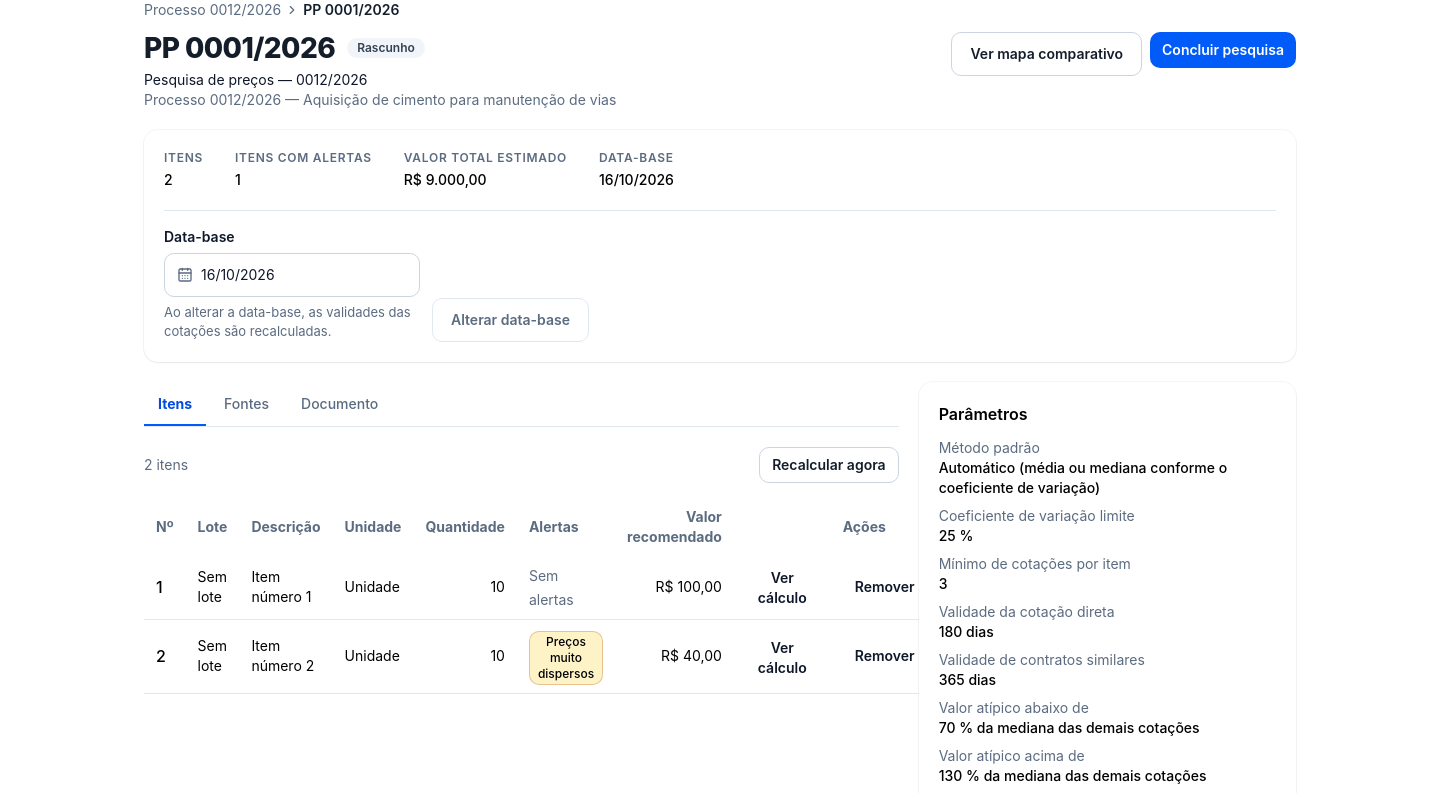
Test case: Concluir pesquisa (SCR-009 · US-032) › 412: fecha o diálogo e pede para recarregar
What coordinates should you click on to do the following:
click the button "Concluir pesquisa"
I would click on:
 (1223, 50)
Its box is [1150,32,1296,68].
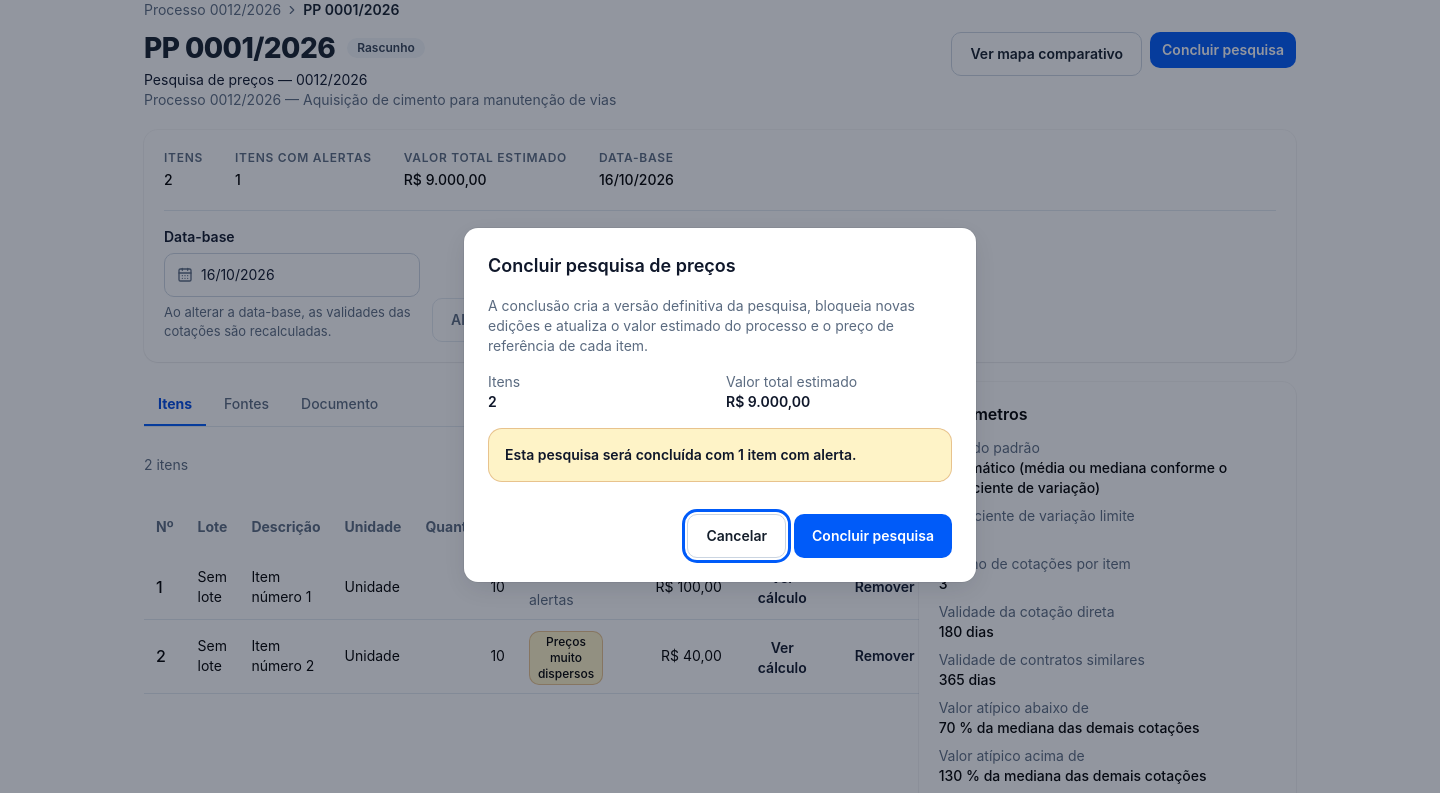
What coordinates should you click on to do the following:
click the button "Concluir pesquisa"
I would click on:
 (873, 536)
Its box is [794,514,952,558].
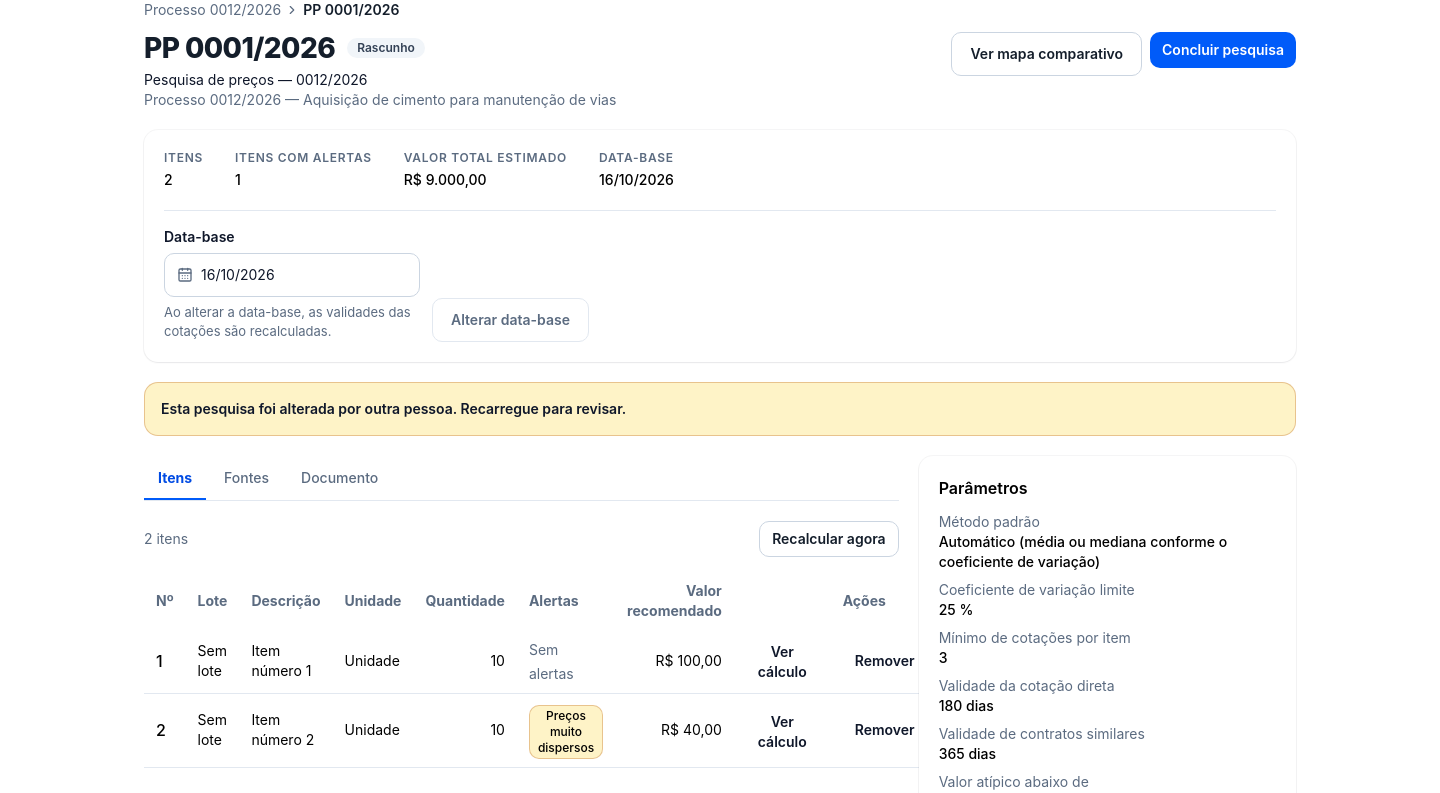
Expected: the text "Esta pesquisa foi alterada por outra pessoa. Recarregue para revisar." is shown, [161,400,626,417]
Expected: the dialog is gone
